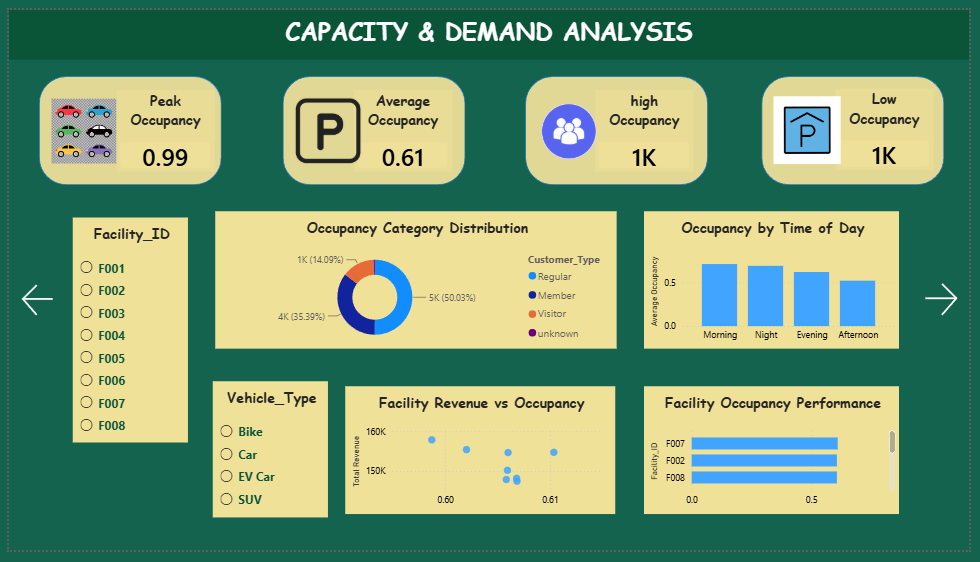

Layout of this report page (visuals, bound fields, positions):
{"tool":"powerbi","page":{"name":"Demand","canvas":[1280,720],"ordinal":4},"visuals":[{"type":"textbox","box":[10,0,1237.1,67.1],"z":0},{"type":"shape","box":[1003.3,88.3,243.5,144.9],"z":1000},{"type":"cardVisual","title":"Low Occupancy","fields":{"Data":["Smartparking analysis.Low Occupancy Sessions"]},"box":[1101.7,105,130.8,108.8],"z":2000},{"type":"shape","box":[688.3,88.3,243.5,144.9],"z":3000},{"type":"shape","box":[365,88.3,243.5,144.9],"z":4000},{"type":"shape","box":[40,88.3,243.5,144.9],"z":5000},{"type":"cardVisual","title":"high Occupancy","fields":{"Data":["Smartparking analysis.High Occupancy Sessions"]},"box":[781.7,106.7,130.8,108.8],"z":6000},{"type":"cardVisual","title":"Average Occupancy","fields":{"Data":["Smartparking analysis.Average Occupancy"]},"box":[460,106.7,130.8,108.8],"z":7000},{"type":"image","box":[348.3,115,154.1,91.9],"z":8000},{"type":"cardVisual","title":"Peak Occupancy","fields":{"Data":["Smartparking analysis.Peak Occupancy"]},"box":[143.3,106.7,130.8,108.8],"z":9000},{"type":"barChart","title":"Facility Occupancy Performance","fields":{"Category":["Smartparking analysis.Facility_ID"],"Y":["Smartparking analysis.Average Occupancy"]},"box":[846.7,501.7,340,170],"z":10000},{"type":"donutChart","title":"Occupancy Category Distribution","fields":{"Y":["Smartparking analysis.Total Parking Sessions"],"Category":["Smartparking analysis.Customer_Type"]},"box":[275,268.3,535,183.3],"z":11000},{"type":"columnChart","title":"Occupancy by Time of Day","fields":{"Y":["Smartparking analysis.Average Occupancy"],"Category":["Smartparking analysis.Entry_Hour_Category"]},"box":[846.7,268.3,340,183.3],"z":12000},{"type":"scatterChart","title":"Facility Revenue vs Occupancy","fields":{"X":["Smartparking analysis.Average Occupancy"],"Y":["Smartparking analysis.Total Revenue"],"Category":["Smartparking analysis.Facility_ID"]},"box":[448.3,501.7,360,170],"z":13000},{"type":"listSlicer","fields":{"Values":["Smartparking analysis.Vehicle_Type"]},"box":[271.7,490,152.6,194.1],"z":14000},{"type":"listSlicer","fields":{"Values":["Smartparking analysis.Facility_ID"]},"box":[85,276.7,153.3,300],"z":15000},{"type":"image","box":[56.7,96.7,86.7,130],"z":15001},{"type":"image","box":[693.3,125,106.7,73.3],"z":15002},{"type":"image","box":[1003.3,115,121.7,90],"z":15003},{"type":"actionButton","box":[1215,358.3,65,55],"z":15004},{"type":"actionButton","box":[11.7,360,111.7,53.3],"z":15005}]}

Visuals, with their boxes in screenshot pixels (x1, y1, x2, y2), scaled from the page's 1280x720 canvas onto the 980x562 screenshot:
textbox: [8, 0, 955, 52]
shape: [768, 69, 955, 182]
"Low Occupancy" cardVisual: [843, 82, 944, 167]
shape: [527, 69, 713, 182]
shape: [279, 69, 466, 182]
shape: [31, 69, 217, 182]
"high Occupancy" cardVisual: [598, 83, 699, 168]
"Average Occupancy" cardVisual: [352, 83, 452, 168]
image: [267, 90, 385, 161]
"Peak Occupancy" cardVisual: [110, 83, 210, 168]
"Facility Occupancy Performance" barChart: [648, 392, 909, 524]
"Occupancy Category Distribution" donutChart: [211, 209, 620, 352]
"Occupancy by Time of Day" columnChart: [648, 209, 909, 352]
"Facility Revenue vs Occupancy" scatterChart: [343, 392, 619, 524]
listSlicer - Smartparking analysis.Vehicle_Type: [208, 382, 325, 534]
listSlicer - Smartparking analysis.Facility_ID: [65, 216, 182, 450]
image: [43, 75, 110, 177]
image: [531, 98, 612, 155]
image: [768, 90, 861, 160]
actionButton: [930, 280, 979, 323]
actionButton: [9, 281, 94, 323]
